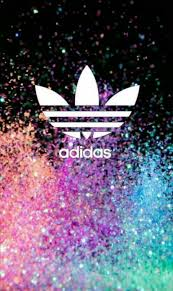adidas: (35, 64, 140, 159)
